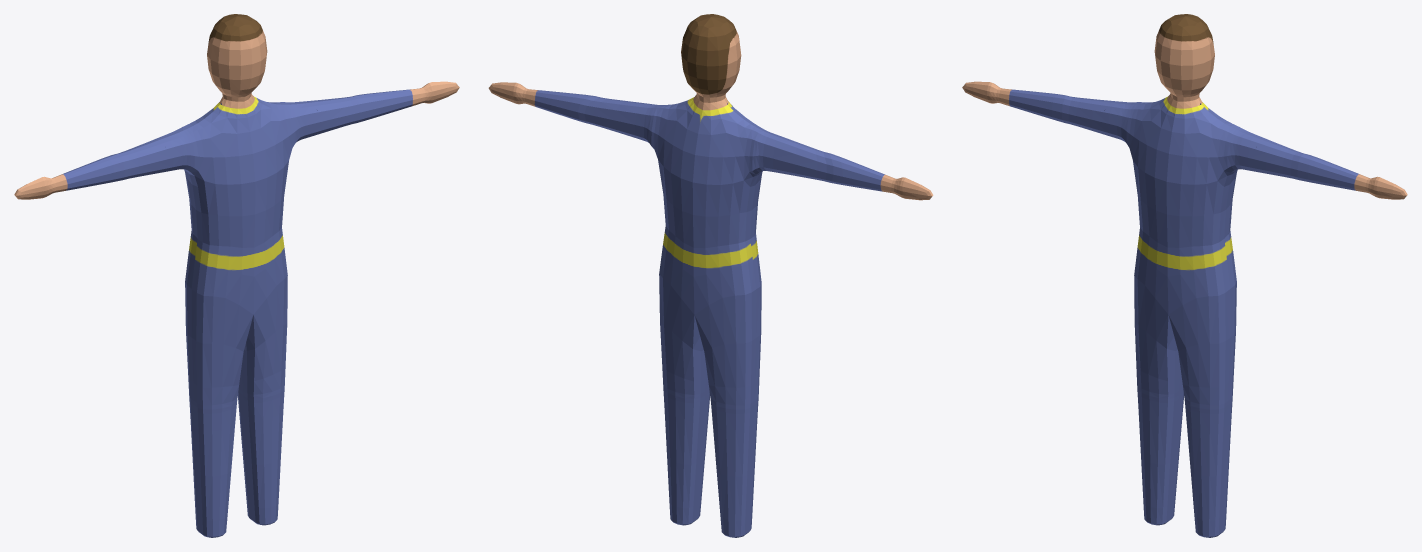
Rendered from dummy.dae.
The picture shows the model from 3 angles, left to right: view 1: azimuth 30°, elevation 25°; view 2: azimuth 150°, elevation 25°; view 3: azimuth 330°, elevation 25°; orthographic projection.
Parts seen in each view (by area): view 1: Man; view 2: Man; view 3: Man.
Part boxes in pixels (left/top/right/bottom): Man: left=14, top=14, right=459, bottom=537; Man: left=488, top=14, right=933, bottom=537; Man: left=962, top=14, right=1407, bottom=537.
Size of the model in its own units: 1.8 by 0.255 by 1.97.
Materials: 1 (1 with a texture image).
